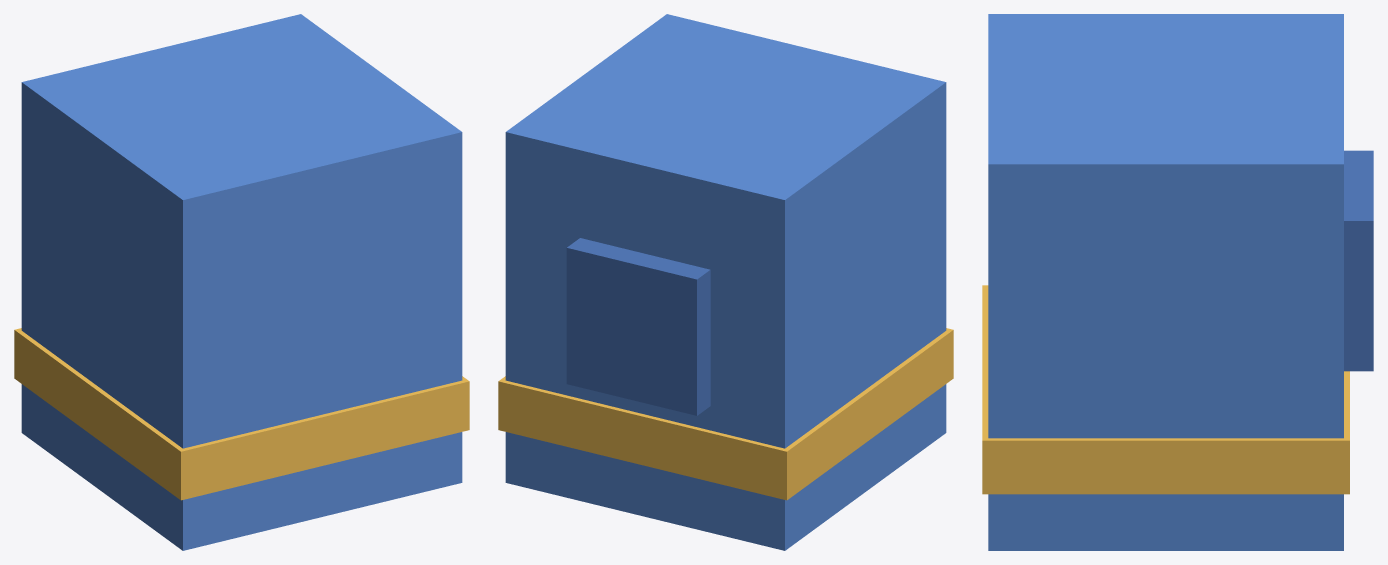
The model's file is esquiador_coxa.glb.
3 renders of one model, left to right at view 1: azimuth 30°, elevation 25°; view 2: azimuth 150°, elevation 25°; view 3: azimuth 270°, elevation 25°, orthographic. The views are drawn at different scales.
Visible parts, largest first — view 1: esquiador_coxa; view 2: esquiador_coxa; view 3: esquiador_coxa.
Part boxes in pixels (x1,y1,x2,y2): esquiador_coxa: (14, 14, 469, 550); esquiador_coxa: (498, 14, 953, 550); esquiador_coxa: (982, 14, 1373, 550).
Bounding box in the file's own units: 0.31 × 0.36 × 0.33.
